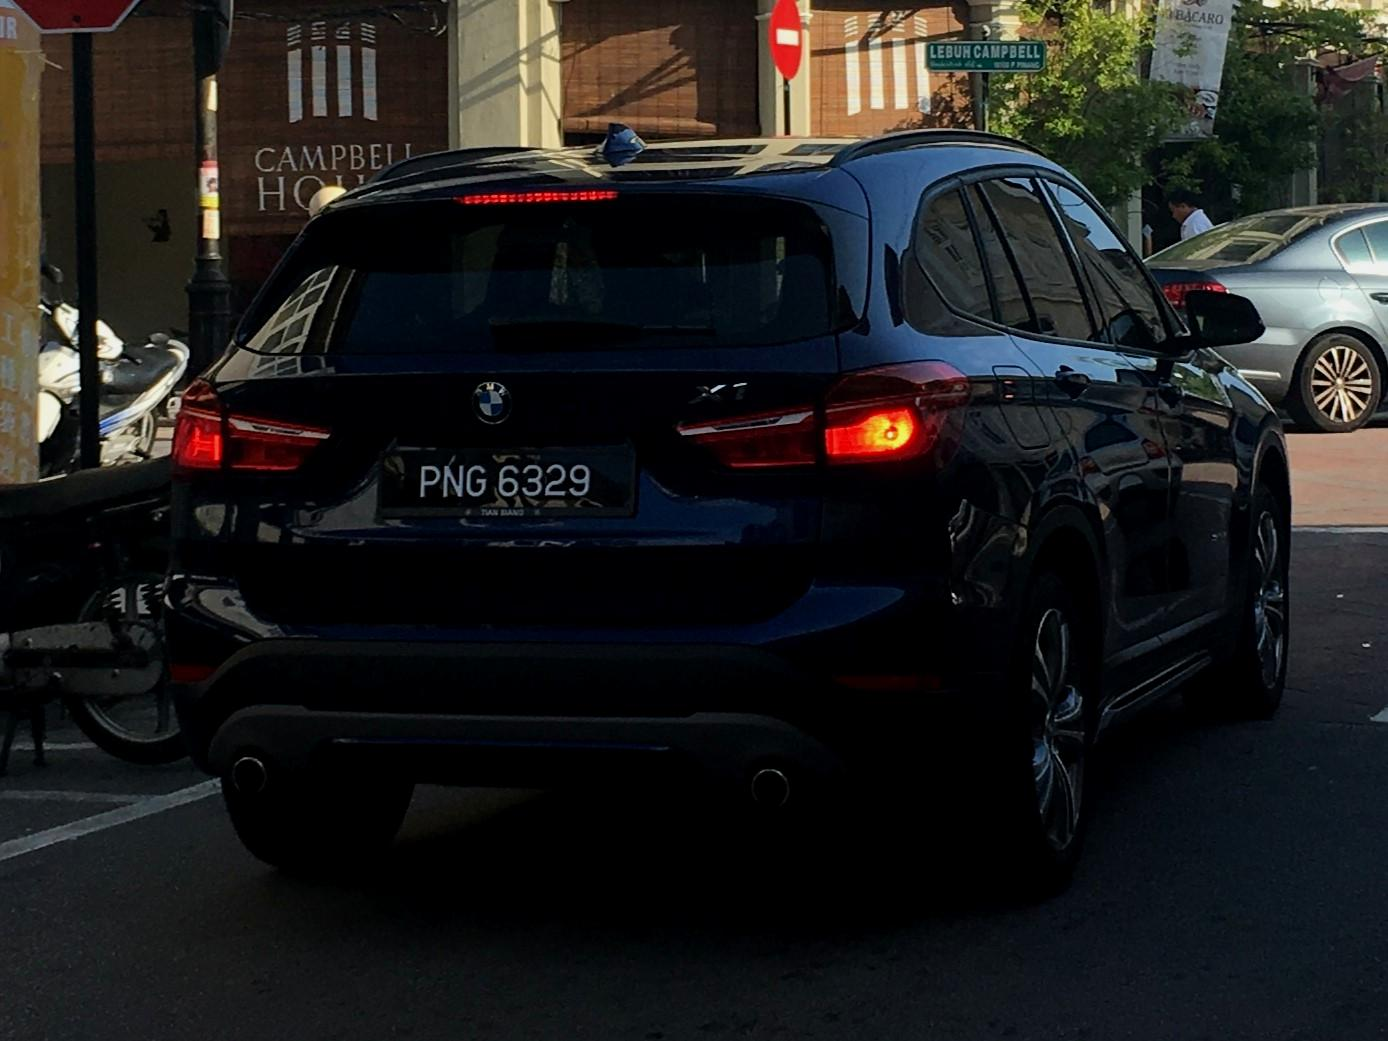License Plate: (377, 446, 636, 512)
